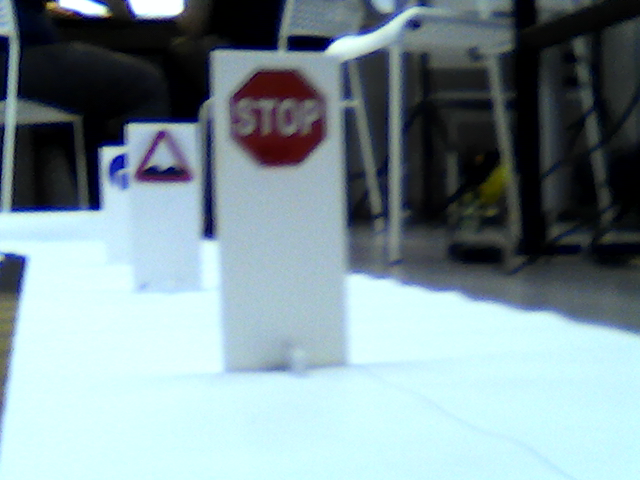Nerov: (135, 129, 196, 184)
Stop: (231, 64, 327, 169)
